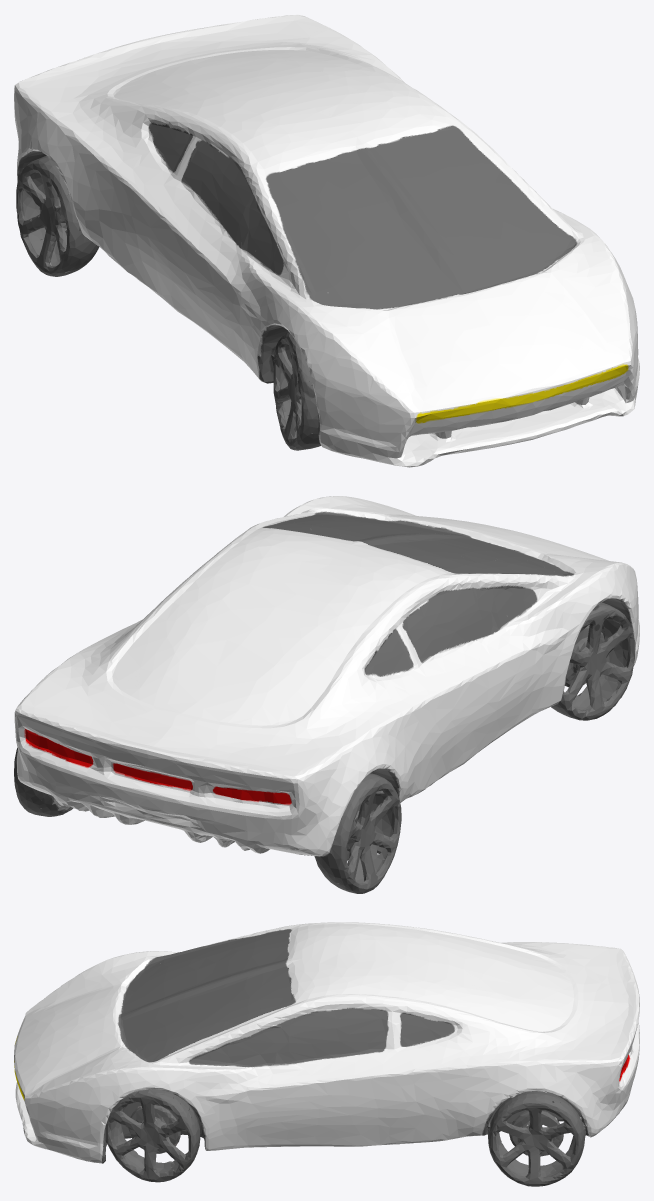
Rendered from tesla-pintado.glb.
3 views of the same model, one above another, from view 1: azimuth 30°, elevation 25°; view 2: azimuth 150°, elevation 25°; view 3: azimuth 270°, elevation 25° (orthographic). The views are drawn at different scales.
Parts seen in each view (by area): view 1: tmpgyufhuawply; view 2: tmpgyufhuawply; view 3: tmpgyufhuawply.
Boxes of the visible parts, <box> form: tmpgyufhuawply: <box>14,14,639,467</box>; tmpgyufhuawply: <box>14,496,639,893</box>; tmpgyufhuawply: <box>14,922,639,1186</box>.
Size of the model in its own units: 0.9931 by 0.5803 by 1.96.
Materials: 8 (8 with a texture image).
